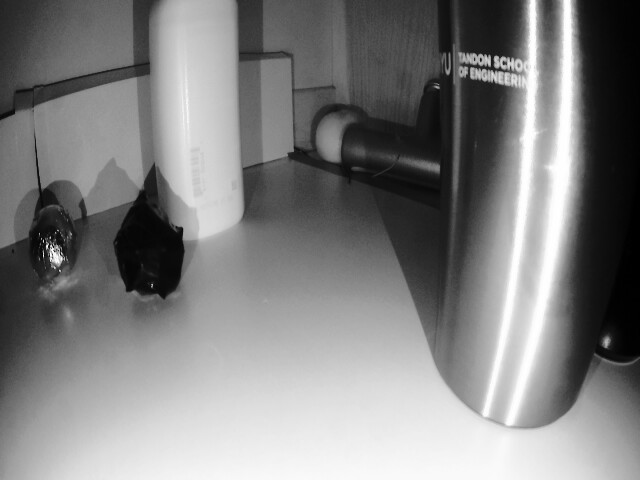black: (22, 200, 85, 280)
silver: (115, 202, 202, 304)
